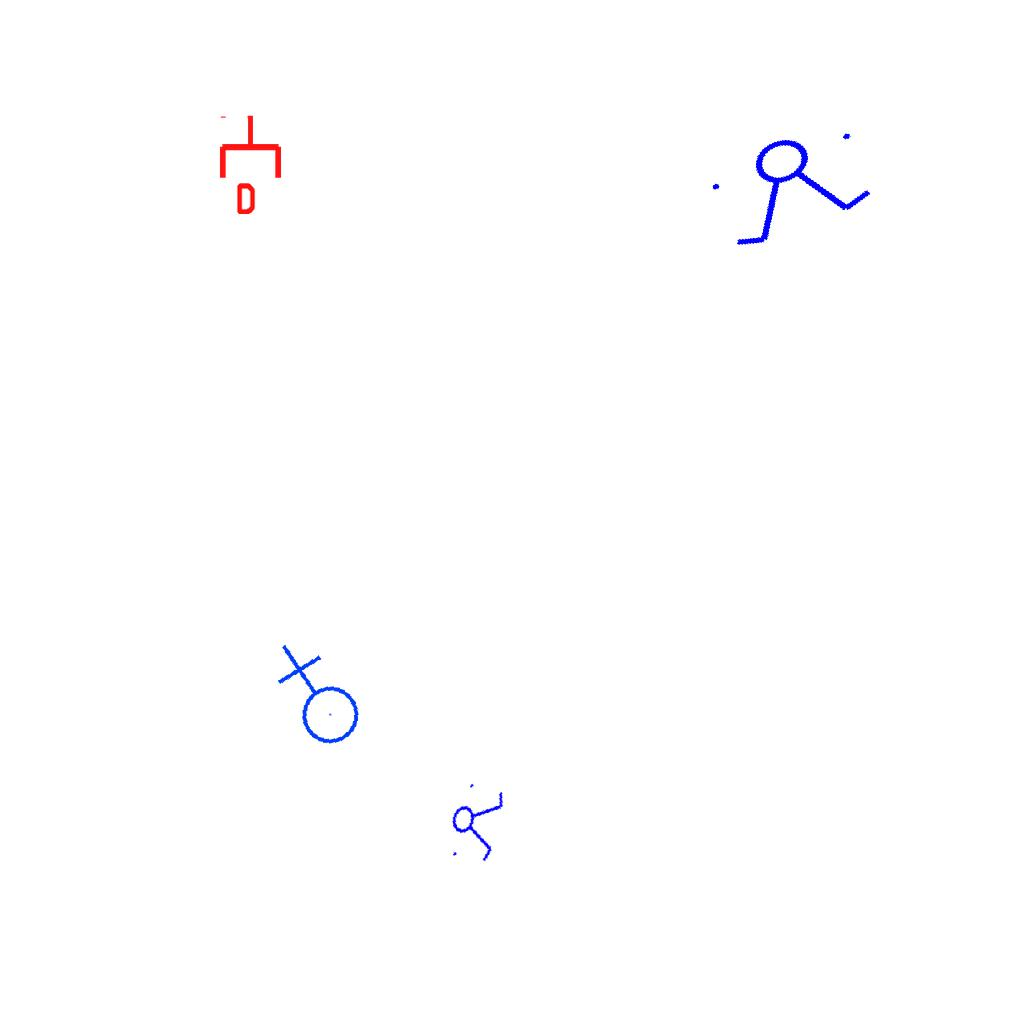Datenanschluss_einfach: (216, 114, 285, 214)
Elektroanschluss_allgemein_230V_Geraeteanschlussdose_230V: (260, 643, 371, 757)
Serienschalter: (696, 110, 888, 260), (442, 775, 510, 869)
